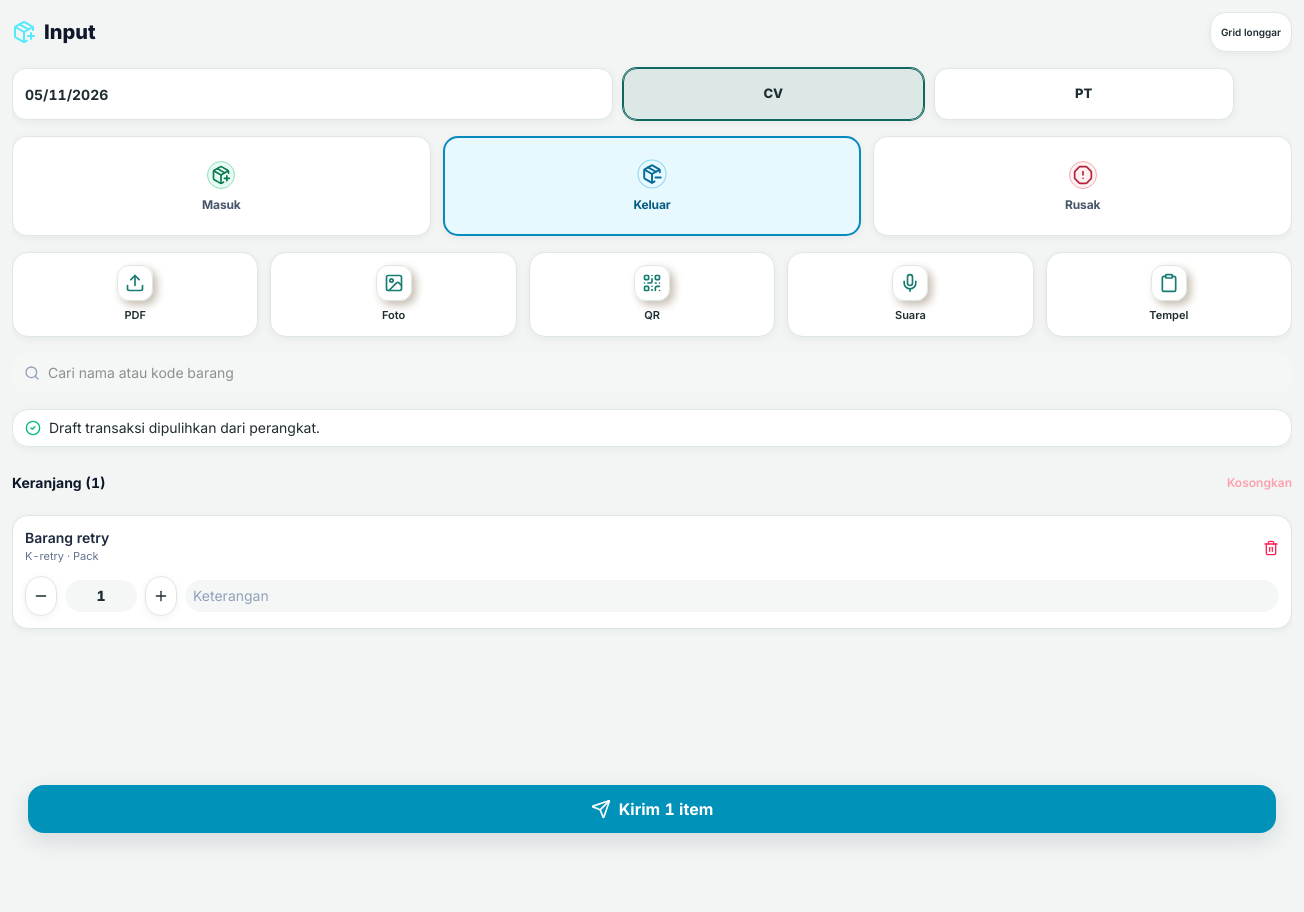
Test: InputPage PR 1 › mempertahankan keranjang dan tidak berpindah jika antrean gagal disimpan
This screenshot has width=1304, height=912.
Click the button "Kirim 1 item".
click(652, 809)  # box [28,785,1276,833]
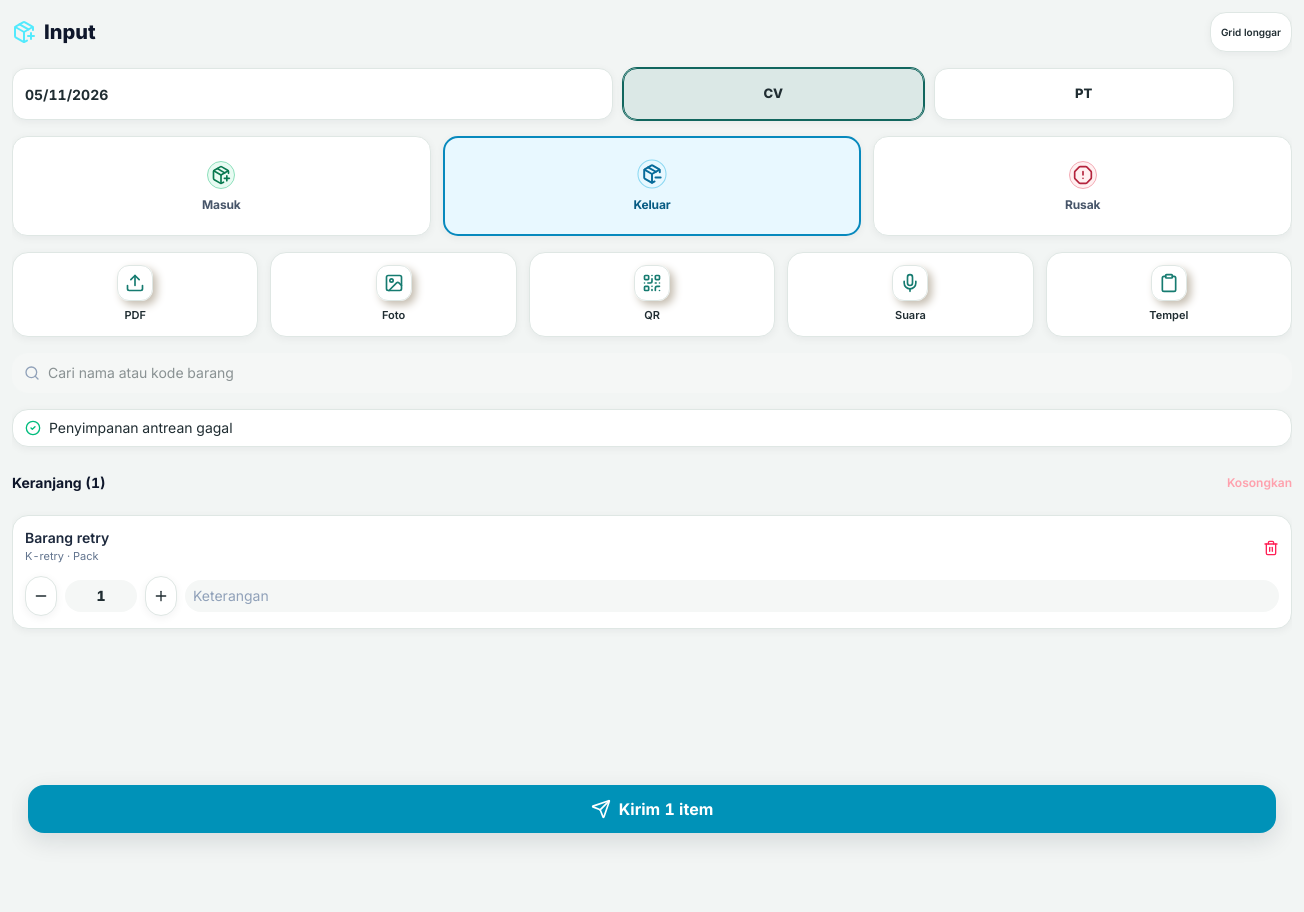
Check: the text "Keranjang (1)" is shown, box [12,472,106,492]
Check: the text "Penyimpanan antrean gagal" is shown, box [49,418,233,438]
